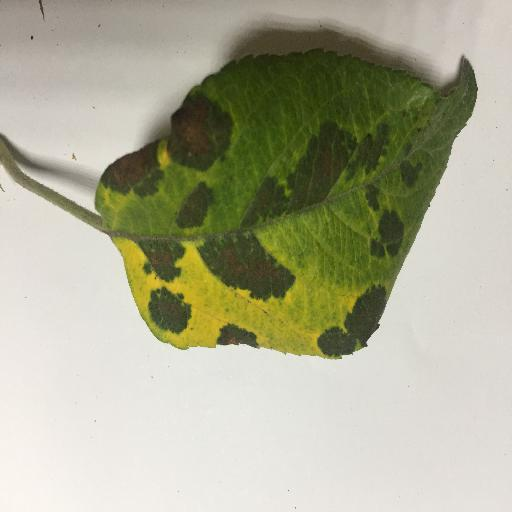Brown_Spot: (175, 114, 234, 161), (218, 248, 277, 286), (303, 142, 342, 198), (334, 295, 374, 346), (214, 323, 266, 356), (107, 162, 158, 194), (139, 238, 175, 275), (155, 287, 188, 326), (373, 211, 401, 252), (175, 190, 200, 220), (255, 182, 274, 210)
